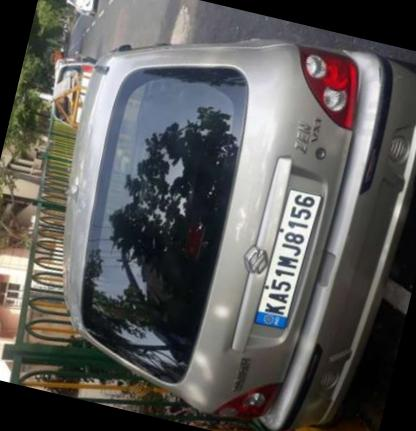plate: (247, 178, 336, 341)
